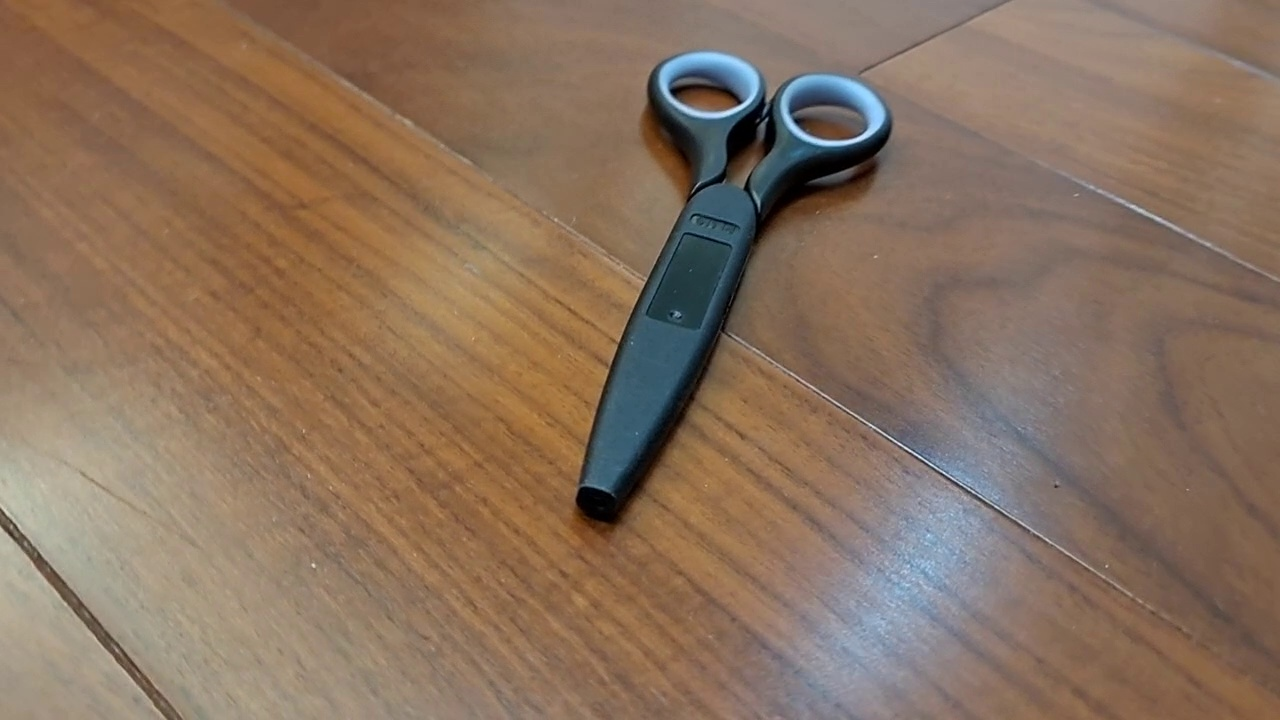scissors: (575, 47, 894, 526)
